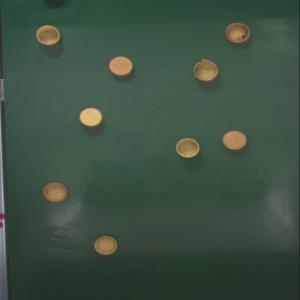others: (193, 59, 218, 81), (42, 182, 68, 202), (175, 138, 200, 158), (93, 236, 118, 256), (225, 23, 250, 43), (109, 56, 134, 76), (36, 25, 61, 45), (222, 131, 247, 150), (79, 107, 103, 126)
